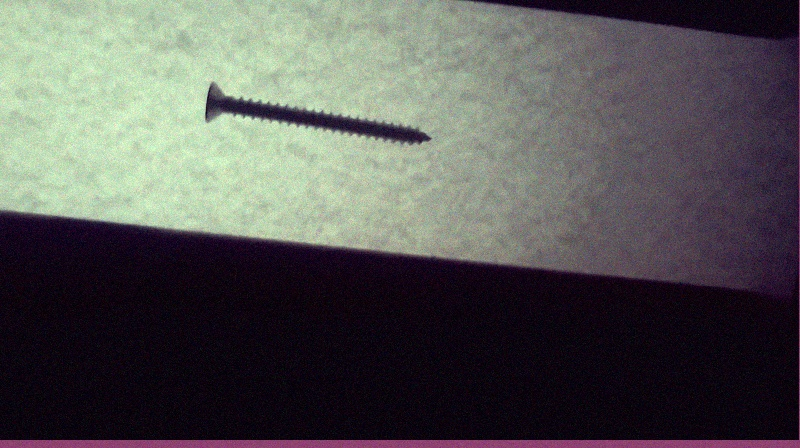S002: (201, 77, 434, 146)
